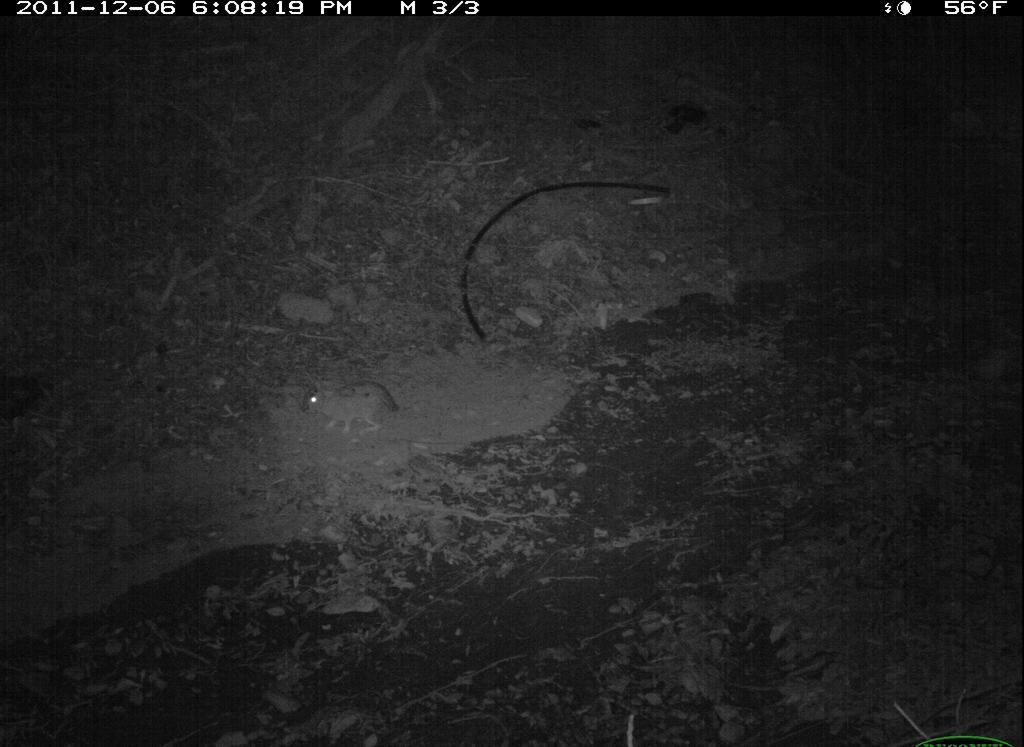rabbit: (285, 367, 415, 443)
